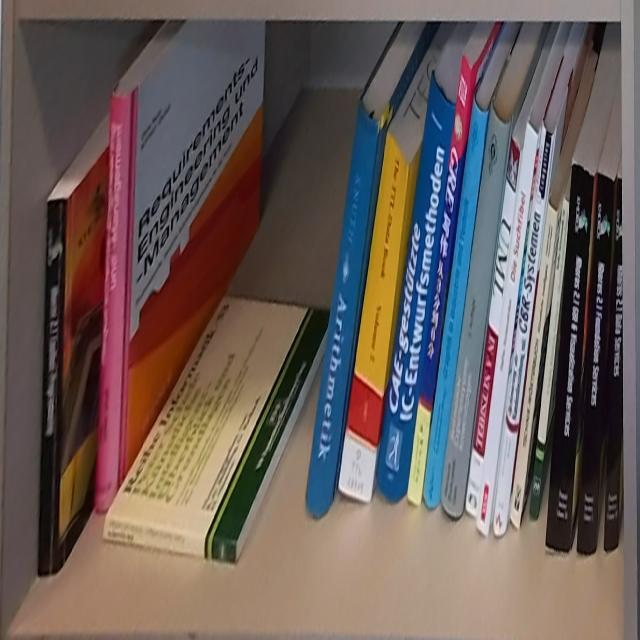Book Spine: (375, 72, 456, 507), (304, 101, 381, 521), (406, 55, 472, 509), (441, 101, 510, 521), (422, 97, 489, 514), (337, 132, 410, 509), (475, 123, 539, 539), (494, 121, 554, 538), (463, 136, 521, 520), (546, 163, 593, 555), (93, 91, 132, 517), (509, 205, 558, 534), (576, 172, 617, 556), (528, 195, 571, 527), (37, 201, 69, 578), (603, 177, 623, 553), (101, 518, 236, 565)
